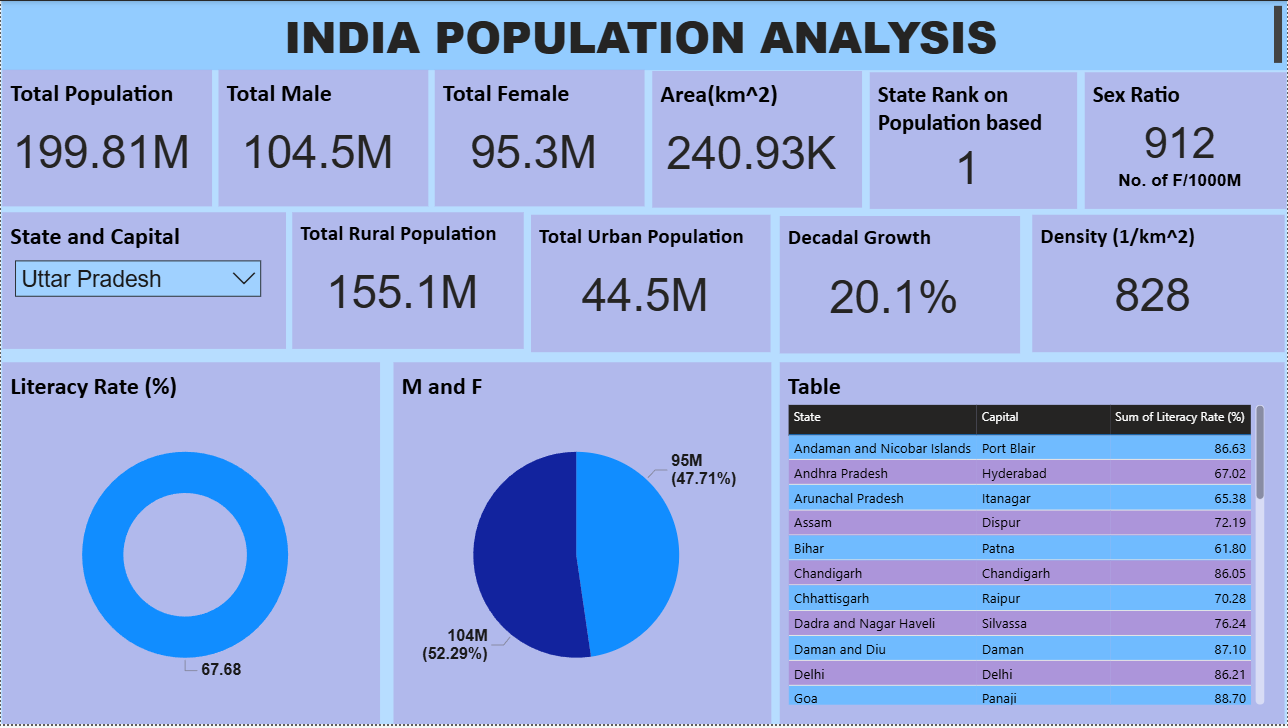

What the dashboard file says about the page in this screenshot:
{"tool":"powerbi","page":{"name":"Population Analysis","canvas":[1280,720],"ordinal":0},"visuals":[{"type":"textbox","box":[1.4,0,1278.9,68.6],"z":0},{"type":"card","title":"Total Population","fields":{"Values":["Sum(population.Population)"]},"box":[1.4,68.6,208.6,135.8],"z":1000},{"type":"card","title":"Total Male","fields":{"Values":["Sum(population.Males)"]},"box":[217,68.6,208.6,135.8],"z":2000},{"type":"card","title":"Total Female","fields":{"Values":["Sum(population.Females)"]},"box":[432.2,68.6,208.6,135.8],"z":3000},{"type":"card","title":"Area(km^2)","fields":{"Values":["Sum(population.Area (km*km))"]},"box":[648,70,208.6,135.8],"z":4000},{"type":"card","title":"Total Rural Population","fields":{"Values":["Sum(population.Rural Population)"]},"box":[290,209.9,230.5,135.8],"z":5000},{"type":"card","title":"Total Urban Population","fields":{"Values":["Sum(population.Urban Population)"]},"box":[527,212.7,238.8,137],"z":6000},{"type":"slicer","title":"State and Capital","fields":{"Values":["population.State","population.Capital"]},"box":[1.4,209.9,282.7,135.8],"z":7000},{"type":"donutChart","title":"Literacy Rate (%)","fields":{"Y":["Min(population.Literacy Rate (%))"]},"box":[1.2,359.5,376,361],"z":8000},{"type":"pieChart","title":"M and F ","fields":{"Y":["Sum(population.Females)","Sum(population.Males)"]},"box":[390.6,359.5,375.7,361],"z":9000},{"type":"tableEx","title":"Table","fields":{"Values":["population.State","population.Capital","Sum(population.Literacy Rate (%))"]},"box":[775,359.5,502.6,360.7],"z":10000},{"type":"card","title":"State Rank on Population based","fields":{"Values":["CountNonNull(population.Rank)"]},"box":[865,71.4,206,135.8],"z":11000},{"type":"card","title":"Sex Ratio","fields":{"Values":["Max(population.Sex Ratio)"]},"box":[1078,71.4,201,135.8],"z":12000},{"type":"card","title":"Decadal Growth","fields":{"Values":["Min(population.Decadal Growth (%))"]},"box":[775,214,238.8,137],"z":13000},{"type":"card","title":"Density (1/km^2)","fields":{"Values":["Sum(population.Density (1/km*km))"]},"box":[1026.3,212.7,251.3,136.8],"z":13001}]}

Visuals, with their boxes in screenshot pixels (x1, y1, x2, y2), scaled from the page's 1280x720 canvas onto the 1288x728 screenshot:
textbox: 1, 0, 1287, 69
"Total Population" card: 1, 69, 211, 207
"Total Male" card: 218, 69, 428, 207
"Total Female" card: 435, 69, 645, 207
"Area(km^2)" card: 652, 71, 862, 208
"Total Rural Population" card: 292, 212, 524, 350
"Total Urban Population" card: 530, 215, 771, 354
"State and Capital" slicer: 1, 212, 286, 350
"Literacy Rate (%)" donutChart: 1, 363, 380, 727
"M and F " pieChart: 393, 363, 771, 727
"Table" tableEx: 780, 363, 1286, 727
"State Rank on Population based" card: 870, 72, 1078, 210
"Sex Ratio" card: 1085, 72, 1287, 210
"Decadal Growth" card: 780, 216, 1020, 355
"Density (1/km^2)" card: 1033, 215, 1286, 353
